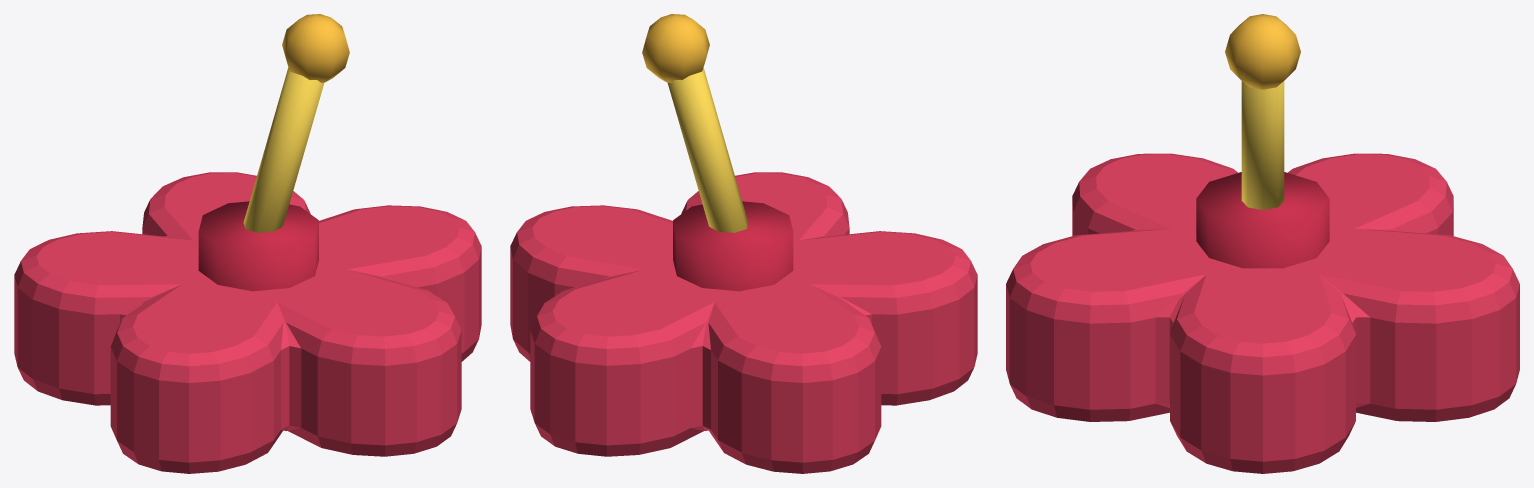
File: hibiscus.glb
3 renders of one model, left to right at view 1: azimuth 30°, elevation 25°; view 2: azimuth 150°, elevation 25°; view 3: azimuth 270°, elevation 25°, orthographic. The views are drawn at different scales.
Parts seen in each view (by area): view 1: hibiscus; view 2: hibiscus; view 3: hibiscus.
Part boxes in pixels (x1,y1,x2,y2): hibiscus: [14, 14, 481, 473]; hibiscus: [510, 14, 977, 473]; hibiscus: [1006, 14, 1519, 473].
Size of the model in its own units: 1.04 by 0.89 by 1.08.
